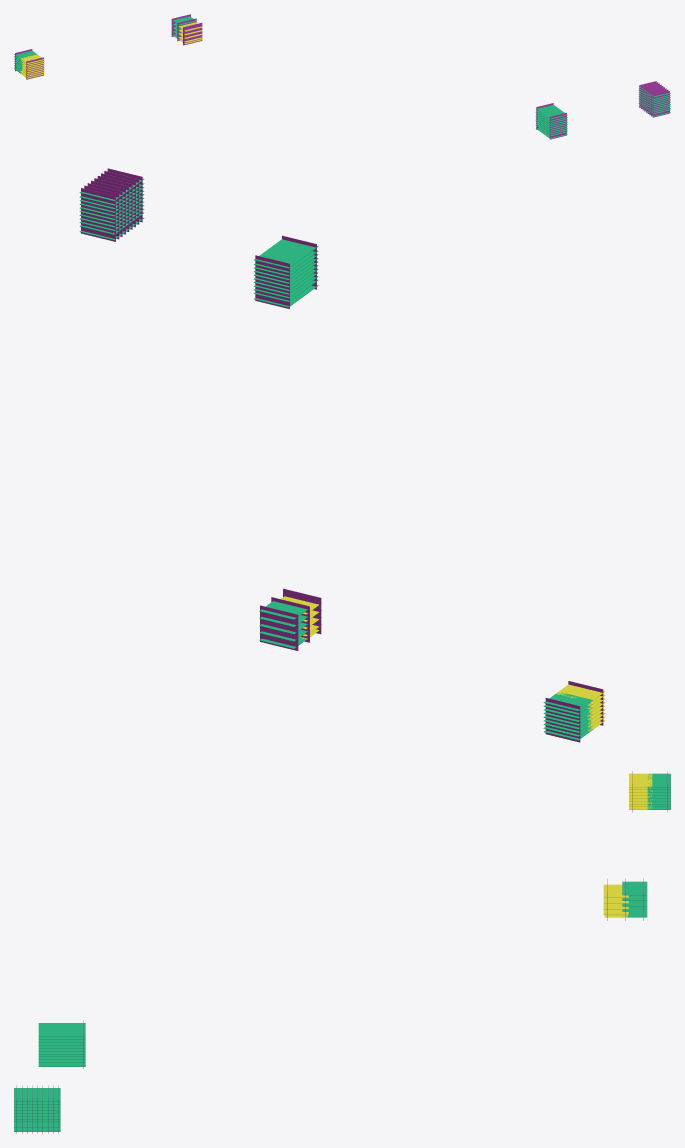
File: simple_struct.glb
The picture shows the model from 3 angles, top to bottom: view 1: azimuth 30°, elevation 25°; view 2: azimuth 150°, elevation 25°; view 3: azimuth 270°, elevation 25°; orthographic projection. The views are drawn at different scales.
Visible parts, largest first — view 1: Cube.064, Cube.045, Cube.039, Cube.002, Cube.053; view 2: Cube.051, Cube.058, Cube.038, Cube.053, Cube.003; view 3: Cube.053, Cube.056.
Part boxes in pixels (bbox=[...]): Cube.064: bbox=[652, 91, 669, 117]; Cube.045: bbox=[549, 113, 566, 139]; Cube.039: bbox=[183, 22, 202, 45]; Cube.002: bbox=[26, 57, 43, 79]; Cube.053: bbox=[536, 105, 567, 119]; Cube.051: bbox=[255, 255, 289, 308]; Cube.058: bbox=[81, 188, 115, 241]; Cube.038: bbox=[260, 605, 298, 650]; Cube.053: bbox=[254, 239, 318, 268]; Cube.003: bbox=[545, 698, 580, 742]; Cube.053: bbox=[38, 1023, 85, 1036]; Cube.056: bbox=[14, 1088, 60, 1101].
Bounding box in the file's own units: 51.31 × 3.01 × 42.14.
